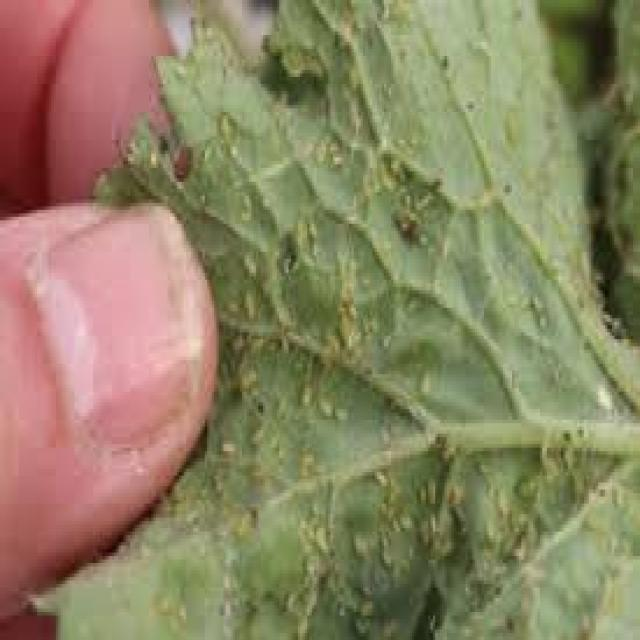aphid: (586, 374, 617, 420), (226, 500, 258, 542), (233, 357, 263, 395), (568, 602, 603, 633), (412, 357, 435, 402), (235, 241, 261, 280), (407, 213, 433, 252), (374, 315, 396, 360), (235, 280, 258, 322), (291, 370, 316, 406), (277, 577, 300, 616), (419, 224, 440, 266), (319, 315, 342, 353), (138, 140, 166, 171), (214, 426, 237, 462), (347, 521, 370, 556), (219, 284, 242, 318), (384, 144, 407, 178), (480, 507, 500, 546), (296, 441, 316, 479), (310, 518, 330, 556), (312, 384, 333, 420), (419, 468, 440, 504), (235, 178, 258, 210), (531, 304, 554, 336), (533, 434, 554, 468), (214, 563, 235, 595), (526, 283, 547, 315), (447, 476, 468, 507), (368, 458, 388, 490), (198, 130, 216, 164), (328, 395, 349, 423), (410, 472, 428, 504), (508, 528, 528, 556), (375, 539, 393, 570), (232, 203, 254, 227), (326, 144, 344, 172), (223, 133, 240, 161)
